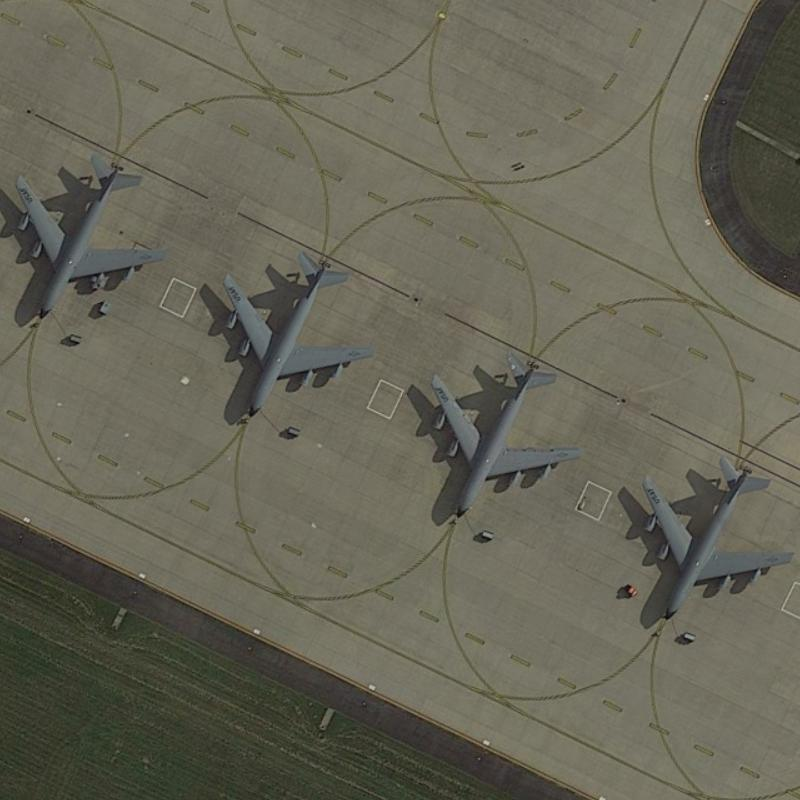A14: (9, 143, 173, 328), (214, 243, 381, 424), (629, 444, 795, 624), (418, 343, 585, 521)
